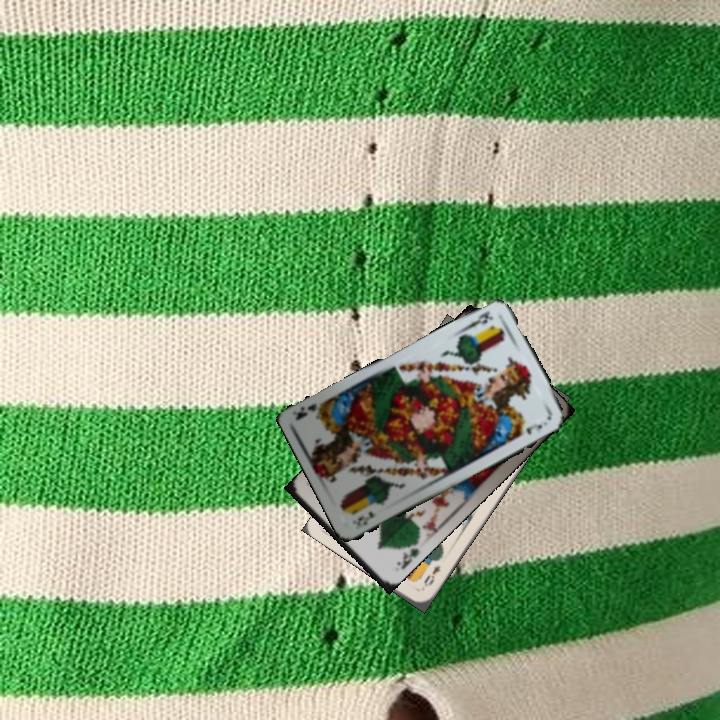EK: (459, 307, 495, 334), (348, 507, 377, 530)
EO: (418, 561, 443, 592)
GK: (393, 540, 422, 572)
